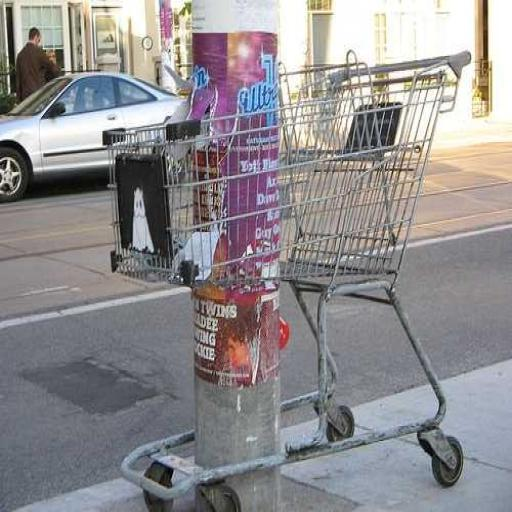shopping_cart: (99, 45, 472, 512)
